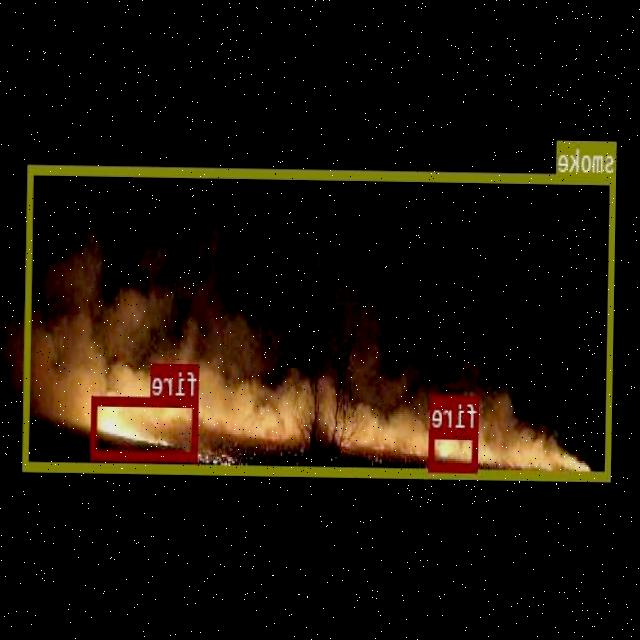fire: (92, 394, 200, 460), (430, 429, 480, 470)
smoke: (24, 163, 617, 479)
